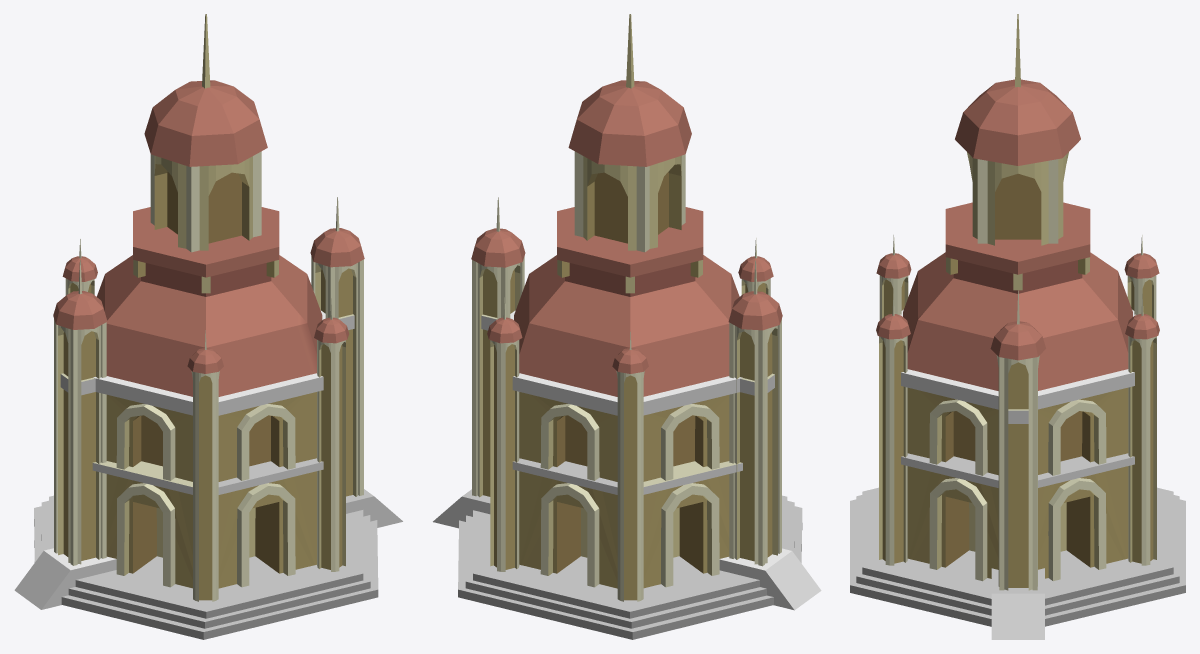
Rendered from temple_010.fbx.
3 views of the same model, side by side, from view 1: azimuth 30°, elevation 25°; view 2: azimuth 150°, elevation 25°; view 3: azimuth 270°, elevation 25° (orthographic).
Visible parts, largest first — view 1: temple_010; view 2: temple_010; view 3: temple_010.
Part boxes in pixels (bbox=[...]): temple_010: bbox=[14, 14, 402, 639]; temple_010: bbox=[433, 14, 821, 639]; temple_010: bbox=[850, 14, 1185, 639].
Bounding box in the file's own units: 1455 × 2083 × 1180.
